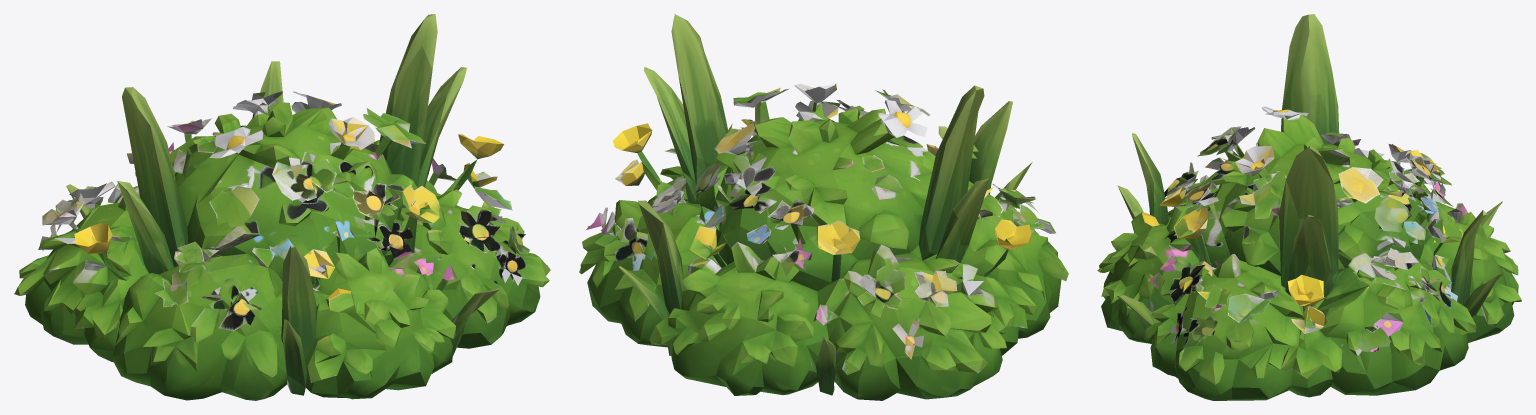
File: ch1_flower_bush.fbx
3 renders of one model, left to right at view 1: azimuth 30°, elevation 25°; view 2: azimuth 150°, elevation 25°; view 3: azimuth 270°, elevation 25°, orthographic. The views are drawn at different scales.
Visible parts, largest first — view 1: ch1_flower_bush; view 2: ch1_flower_bush; view 3: ch1_flower_bush.
Boxes of the visible parts, <box> form: ch1_flower_bush: <box>14,14,550,400</box>; ch1_flower_bush: <box>579,14,1068,400</box>; ch1_flower_bush: <box>1097,14,1521,400</box>.
Bounding box in the file's own units: 1.99 × 1.2 × 1.9.
1 material, 1 textured.
